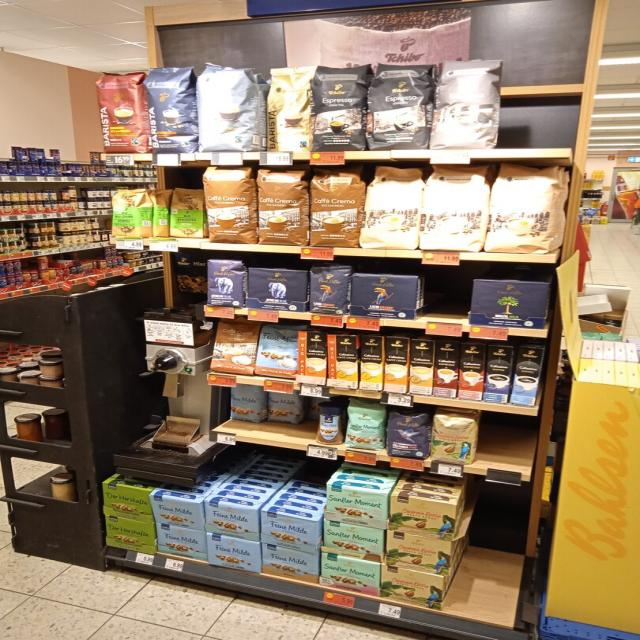AB Bohne: (204, 255, 246, 309)
AB Gemahlen: (245, 266, 307, 313)
Athiopien Bohne: (107, 185, 150, 241)
Athiopien Gemahlen: (169, 186, 205, 240)
BM Gemahlen: (469, 277, 553, 330)
Barista CB: (264, 61, 314, 153)
Barista CC: (196, 61, 261, 154)
Barista Espresso: (144, 59, 195, 154)
Barista Kolumbien: (93, 67, 150, 154)
C Fino Bohne: (384, 406, 432, 461)
CC Mild: (481, 163, 565, 256), (416, 162, 494, 253), (357, 163, 429, 251)
CC Vollmundig: (209, 319, 262, 377)
CC Vollmundig 36 Pads: (308, 166, 365, 248), (257, 166, 309, 248), (201, 167, 257, 242)
Colombia BB Bohne: (424, 410, 479, 467)
Colombia BB Gemahlen: (388, 491, 458, 543), (380, 564, 446, 613), (385, 531, 453, 577)
Espresso Aromatisch: (429, 55, 508, 149)
Espresso Kraftig: (364, 53, 434, 155), (311, 57, 370, 155)
FM 36 Pads: (253, 321, 298, 379)
FM Gemahlen: (260, 508, 321, 555), (260, 542, 319, 584), (204, 499, 259, 544), (207, 533, 263, 575), (150, 493, 207, 532), (156, 522, 207, 564)
FM Instant: (310, 400, 345, 447)
Herzhatfe Mundig: (103, 481, 154, 527), (104, 514, 156, 556)
LG Bohne: (307, 262, 349, 317)
LG Gemahlen: (350, 272, 419, 320)
SM Bohne: (341, 398, 387, 453)
SM Gemahlen: (325, 481, 390, 532), (321, 552, 383, 599), (322, 518, 385, 564)
Simo CCMild: (327, 334, 357, 389)
Simo CCMild bigpack: (359, 335, 384, 392)
Simo CCVollmundig: (295, 331, 327, 387)
Simo CCVollmundig bigpack: (384, 336, 408, 393)
Simo Decaff: (409, 338, 435, 396)
Simo Es Brazil: (457, 341, 485, 401)
Simo Es Caramel: (433, 340, 460, 399)
Simo Es Kraft: (484, 344, 514, 404)
Simo Es Vanilla: (510, 346, 546, 407)
